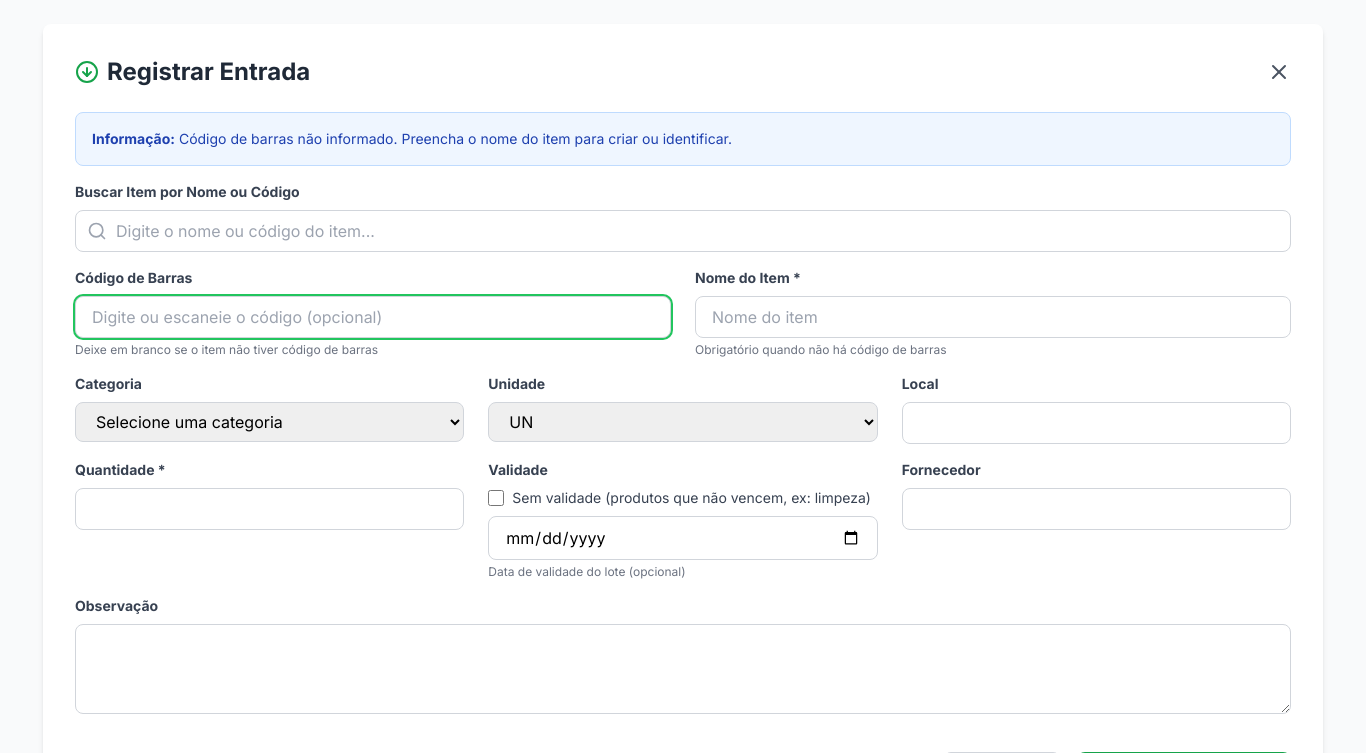
Entry Component › deve exibir item encontrado quando código existe
Step 1. Type "123456789" into the field with placeholder "Digite ou escaneie o código (opcional)" → [373, 317], box top-left (75, 296), bottom-right (671, 338)
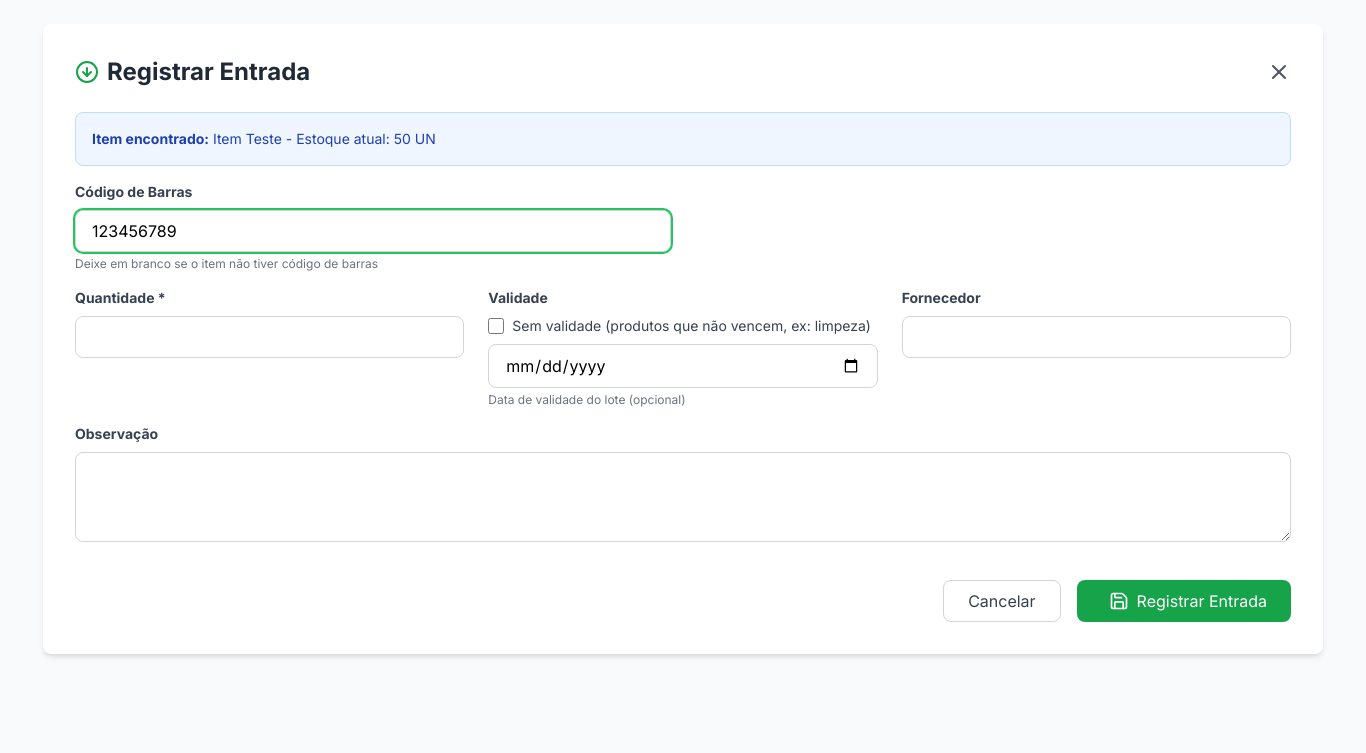
Now the text "Item encontrado:" is shown, box top-left (92, 130), bottom-right (209, 147)
Now the text "Item encontrado: Item Teste - Estoque atual: 50 UN" is shown, box top-left (92, 130), bottom-right (436, 147)
